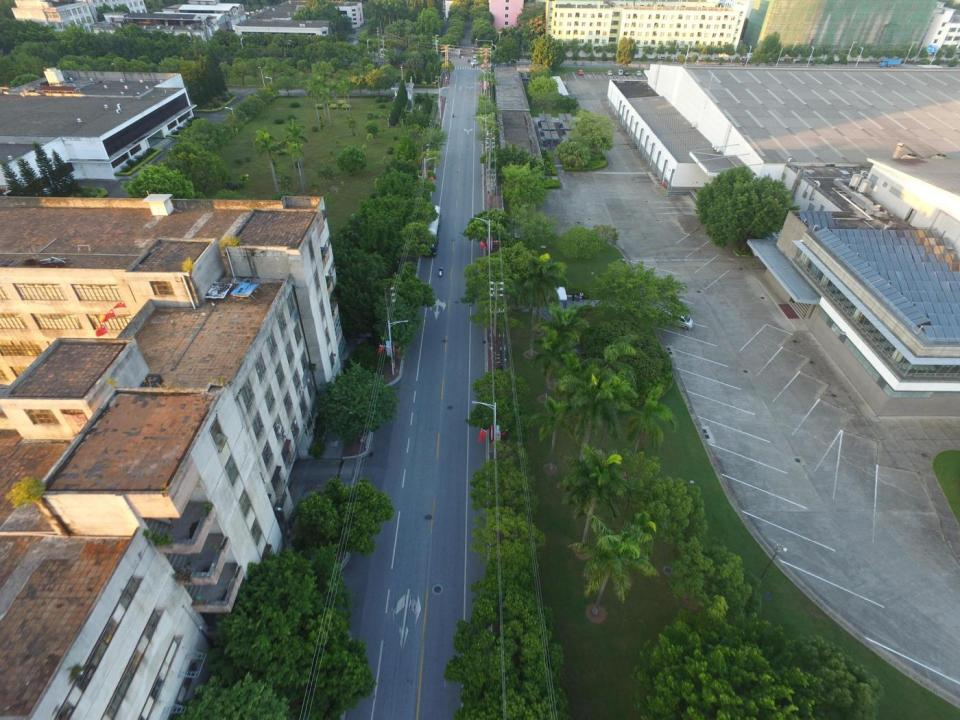bus: (418, 204, 442, 257)
car: (470, 59, 480, 66), (741, 58, 751, 65), (635, 70, 641, 77), (622, 70, 630, 75), (606, 70, 612, 75), (578, 69, 583, 74)
truck: (878, 58, 901, 67)
van: (660, 307, 694, 331), (616, 68, 622, 76)
